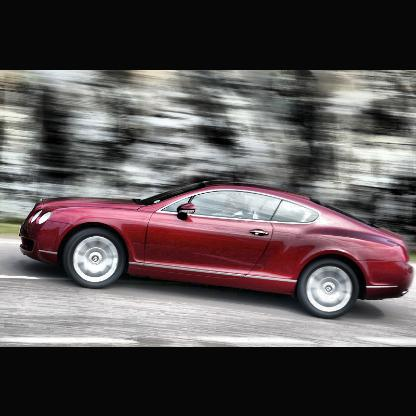Bentley Continental GT Coupe 2007: (21, 180, 415, 320)
